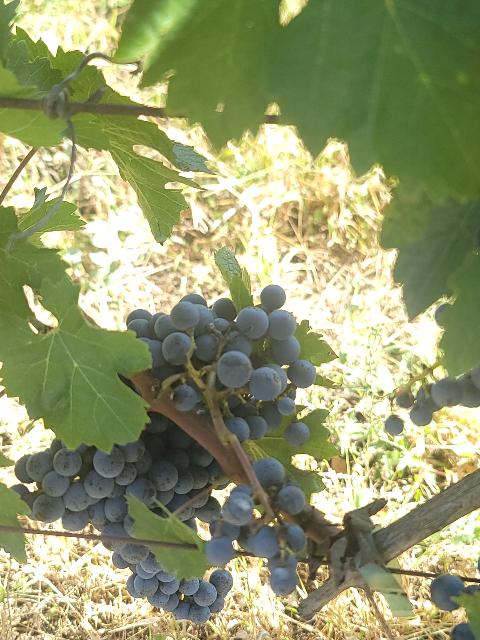grapes: (128, 285, 316, 441), (14, 412, 224, 539), (206, 485, 306, 596), (102, 539, 231, 624)
